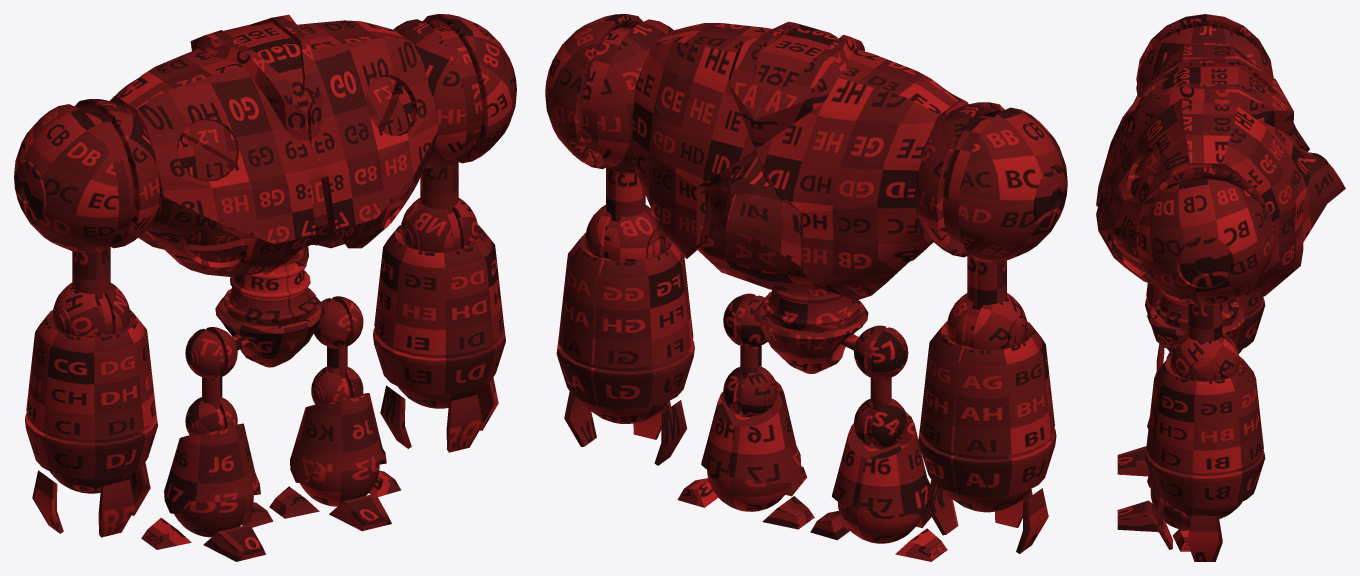
The model's file is Robot_with_textures.fbx.
3 views of the same model, side by side, from view 1: azimuth 30°, elevation 25°; view 2: azimuth 150°, elevation 25°; view 3: azimuth 270°, elevation 25° (orthographic). The views are drawn at different scales.
Visible parts, largest first — view 1: Upper_Torso, Right_Forearm, Shoulders, Right_Calf, Right_Elbow, Abs, Right_Foot, Right_HipJoint, Hips, Right_Claw01, Right_Bicep, Right_FootClaw01 (+7 smaller); view 2: Upper_Torso, Right_Forearm, Shoulders, Right_Calf, Right_Elbow, Right_Foot, pasted__Right_HipJoint, Right_HipJoint, Hips, Right_Bicep, Abs, pasted__pasted__Right_Claw01 (+6 smaller); view 3: Upper_Torso, Shoulders, Right_Forearm, Right_Elbow, Right_FootClaw01, pasted__Right_Claw01, Right_Bicep, Abs, Hips, Right_Claw01, Right_Wrist, Right_Foot.
Boxes of the visible parts, x1=… form: Upper_Torso: x1=110, y1=14, x2=438, y2=276; Right_Forearm: x1=25, y1=225, x2=505, y2=479; Shoulders: x1=14, y1=14, x2=516, y2=253; Right_Calf: x1=164, y1=393, x2=386, y2=514; Right_Elbow: x1=52, y1=198, x2=478, y2=337; Abs: x1=223, y1=246, x2=316, y2=325; Right_Foot: x1=174, y1=461, x2=379, y2=537; Right_HipJoint: x1=185, y1=296, x2=363, y2=378; Hips: x1=215, y1=297, x2=324, y2=367; Right_Claw01: x1=98, y1=395, x2=483, y2=537; Right_Bicep: x1=72, y1=161, x2=458, y2=299; Right_FootClaw01: x1=203, y1=493, x2=391, y2=561; Upper_Torso: x1=631, y1=21, x2=968, y2=300; Right_Forearm: x1=556, y1=232, x2=1056, y2=497; Shoulders: x1=545, y1=14, x2=1067, y2=262; Right_Calf: x1=701, y1=380, x2=930, y2=515; Right_Elbow: x1=585, y1=205, x2=1027, y2=349; Right_Foot: x1=707, y1=469, x2=922, y2=543; pasted__Right_HipJoint: x1=723, y1=367, x2=908, y2=448; Right_HipJoint: x1=723, y1=293, x2=908, y2=379; Hips: x1=754, y1=301, x2=868, y2=373; Right_Bicep: x1=606, y1=166, x2=1006, y2=310; Abs: x1=763, y1=289, x2=859, y2=330; pasted__pasted__Right_Claw01: x1=654, y1=400, x2=958, y2=535; Upper_Torso: x1=1096, y1=42, x2=1345, y2=296; Shoulders: x1=1136, y1=14, x2=1273, y2=305; Right_Forearm: x1=1145, y1=283, x2=1265, y2=508; Right_Elbow: x1=1170, y1=332, x2=1239, y2=380; Right_FootClaw01: x1=1117, y1=446, x2=1158, y2=532; pasted__Right_Claw01: x1=1187, y1=515, x2=1222, y2=561; Right_Bicep: x1=1188, y1=303, x2=1222, y2=341; Abs: x1=1154, y1=289, x2=1238, y2=329; Hips: x1=1147, y1=304, x2=1245, y2=350; Right_Claw01: x1=1156, y1=344, x2=1172, y2=549; Right_Wrist: x1=1167, y1=349, x2=1242, y2=518; Right_Foot: x1=1150, y1=489, x2=1190, y2=528.
Size of the model in its own units: 4.33 by 4.08 by 2.17.
1 material, 1 textured.
